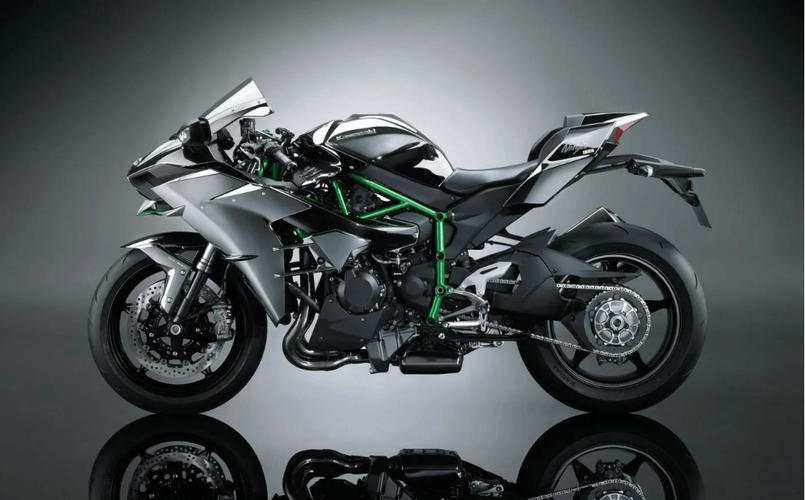摩托车: (89, 71, 725, 420)
